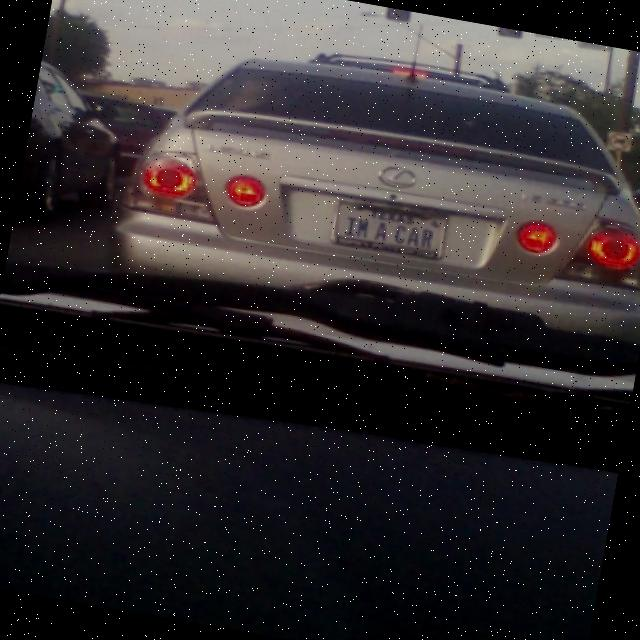Autre: (322, 190, 449, 264)
